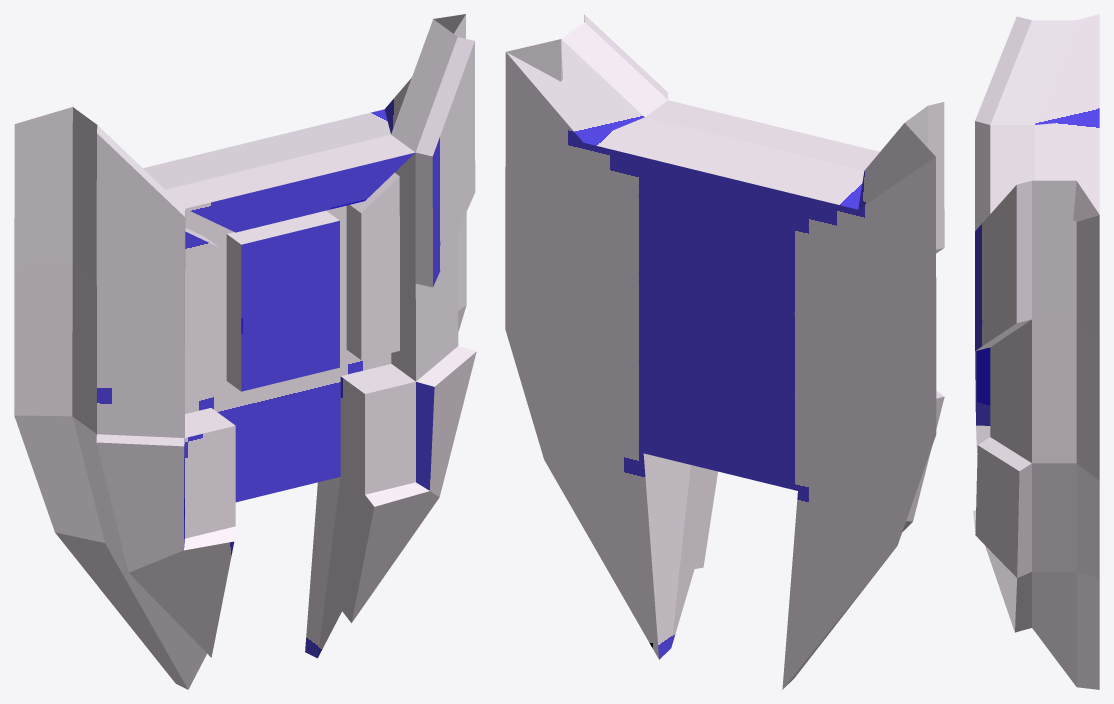
The model's file is turtle.obj.
3 views of the same model, side by side, from view 1: azimuth 30°, elevation 25°; view 2: azimuth 150°, elevation 25°; view 3: azimuth 270°, elevation 25° (orthographic). The views are drawn at different scales.
Parts seen in each view (by area): view 1: mesh01; view 2: mesh01; view 3: mesh01.
Part boxes in pixels (<box>): mesh01: <box>14,14,476,689</box>; mesh01: <box>505,14,944,689</box>; mesh01: <box>973,14,1099,689</box>.
Size of the model in its own units: 10.46 by 13.57 by 2.78.
